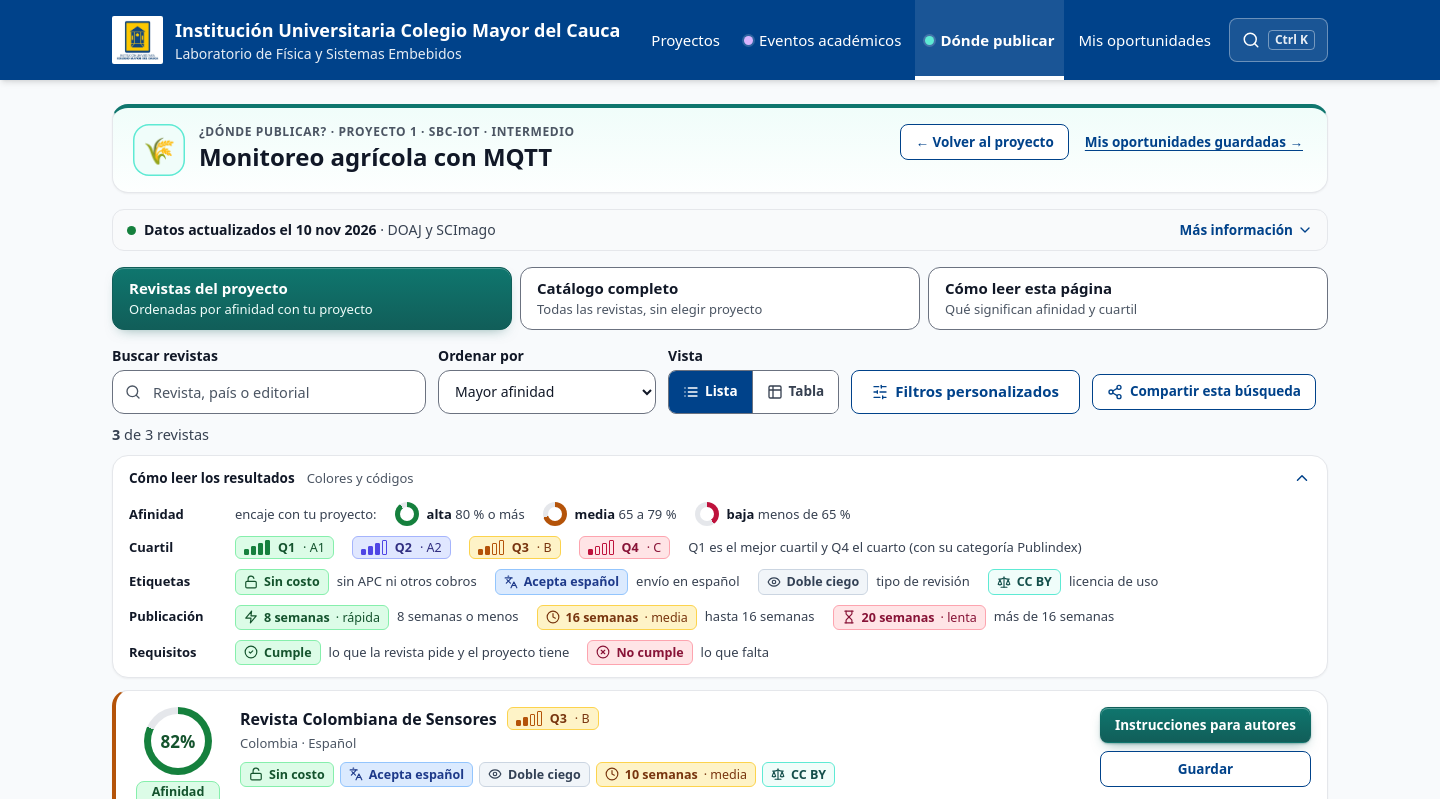
/donde-publicar filters › a search without matches shows the empty message
In the search field labelled "Buscar revistas": (269, 392) [112, 370, 426, 414], type "zzzz"
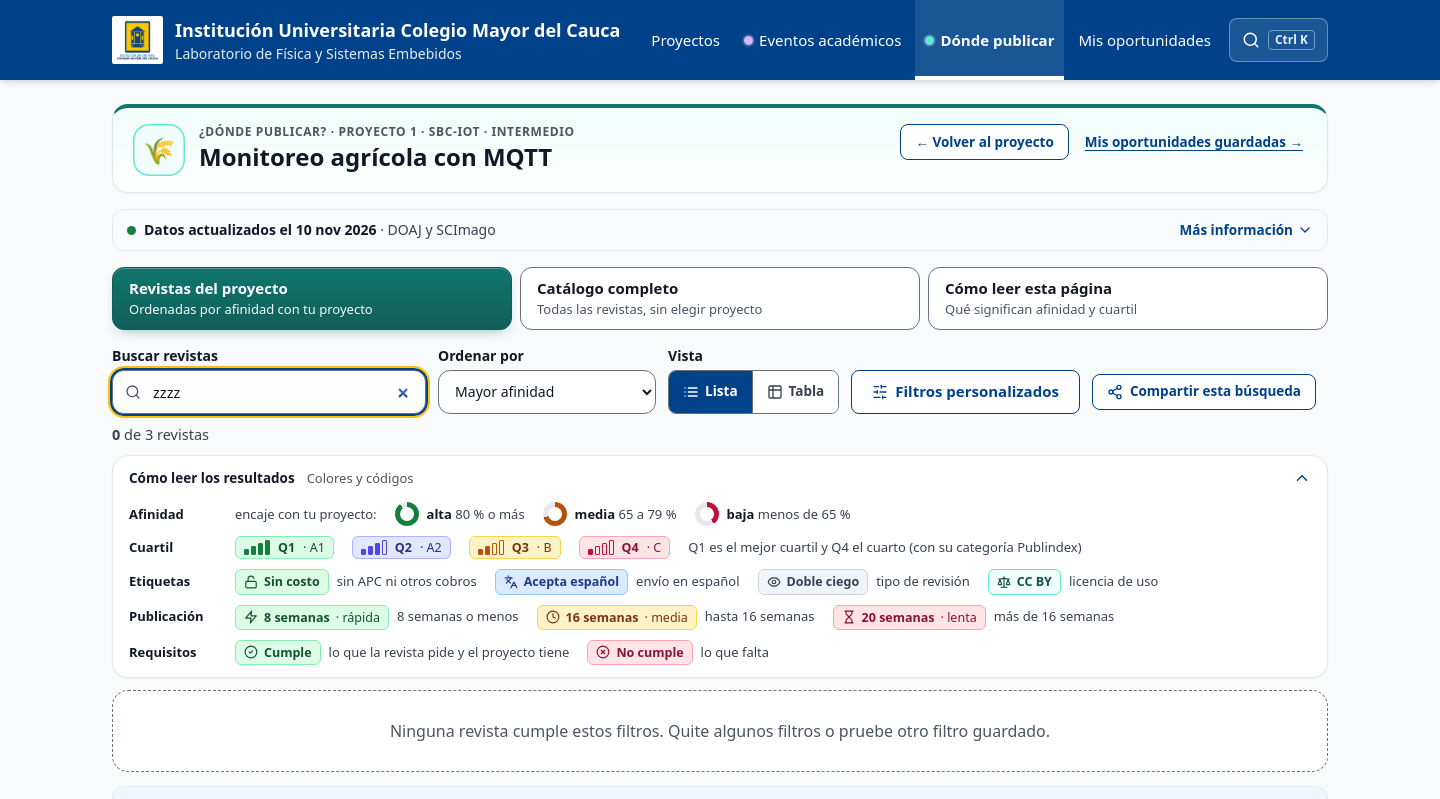
Result: the text "Ninguna revista cumple estos filtros" is shown at [390, 720, 1050, 742]
Result: the text "0 de 3 revistas" is shown at [112, 424, 209, 445]
